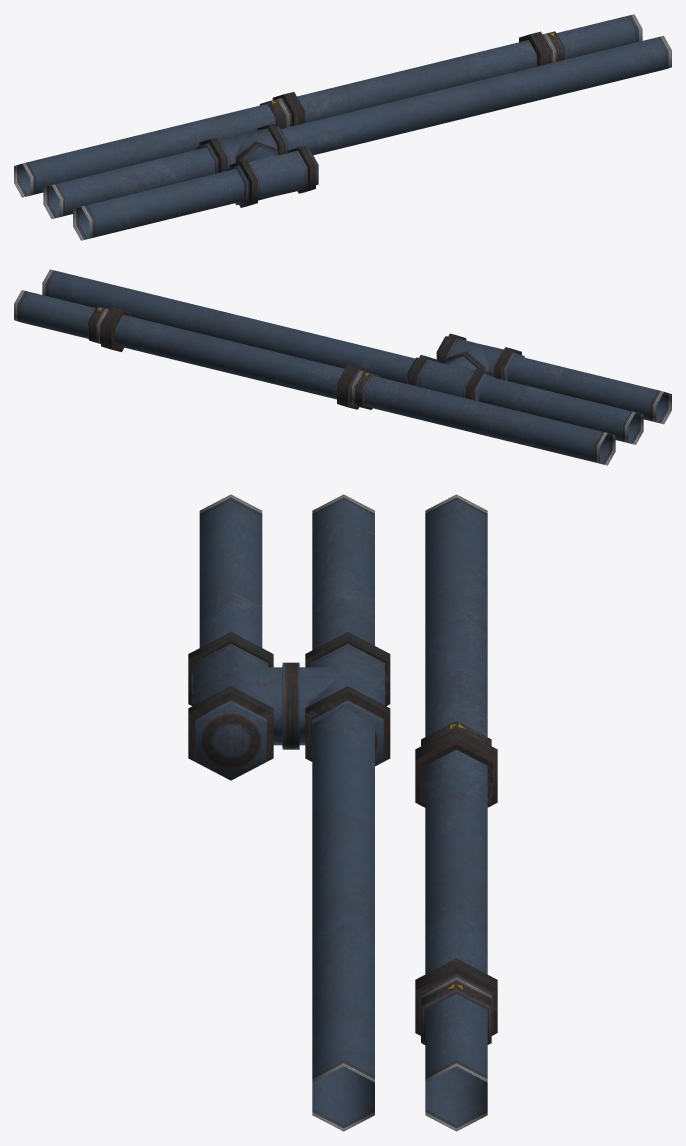
The model's file is PIpe3_G_L1.fbx.
3 renders of one model, top to bottom at view 1: azimuth 30°, elevation 25°; view 2: azimuth 150°, elevation 25°; view 3: azimuth 270°, elevation 25°, orthographic. The views are drawn at different scales.
Visible parts, largest first — view 1: PIpe3_G_L1; view 2: PIpe3_G_L1; view 3: PIpe3_G_L1.
Part boxes in pixels (x1,y1,x2,y2): PIpe3_G_L1: (14, 14, 671, 240); PIpe3_G_L1: (14, 269, 671, 465); PIpe3_G_L1: (188, 494, 497, 1131).
Size of the model in its own units: 200 by 14.52 by 45.68.
